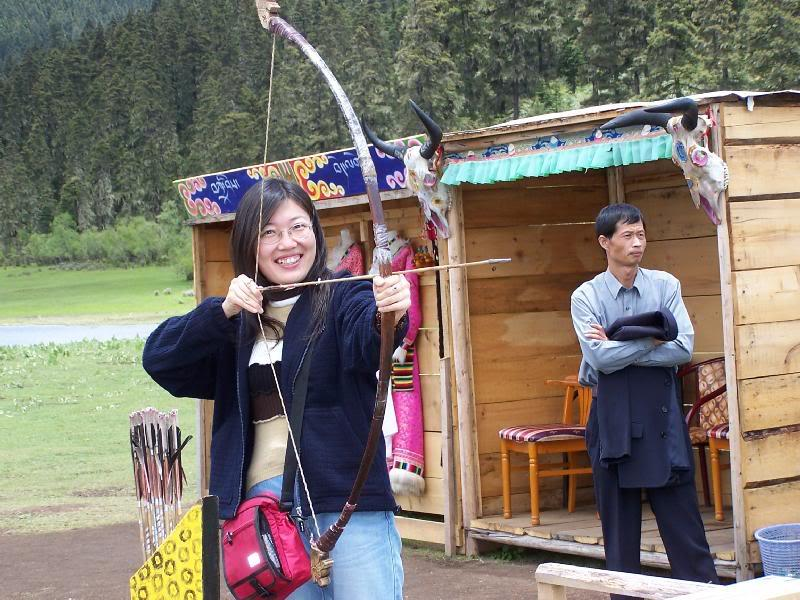person: (140, 182, 416, 600)
